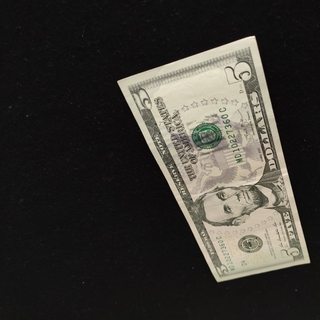5USDFront: (116, 35, 311, 284)
